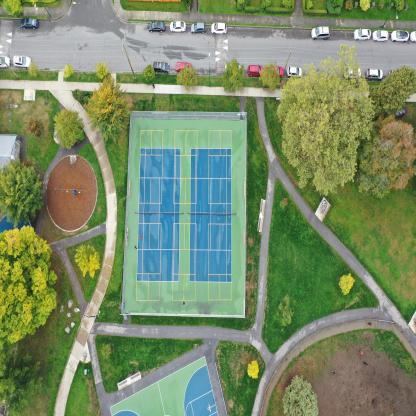Coniferous Tree: (360, 116, 416, 203), (0, 346, 44, 409), (363, 66, 416, 117), (0, 160, 43, 222), (87, 79, 127, 140), (281, 370, 319, 416), (54, 108, 84, 149), (175, 68, 199, 88), (278, 303, 293, 325), (1, 0, 22, 15), (26, 117, 41, 135), (142, 66, 155, 82)
Deciduous Tree: (277, 60, 364, 192), (0, 225, 54, 340), (222, 60, 245, 96), (76, 245, 100, 276), (339, 275, 353, 292), (248, 360, 259, 378), (62, 67, 74, 77)
